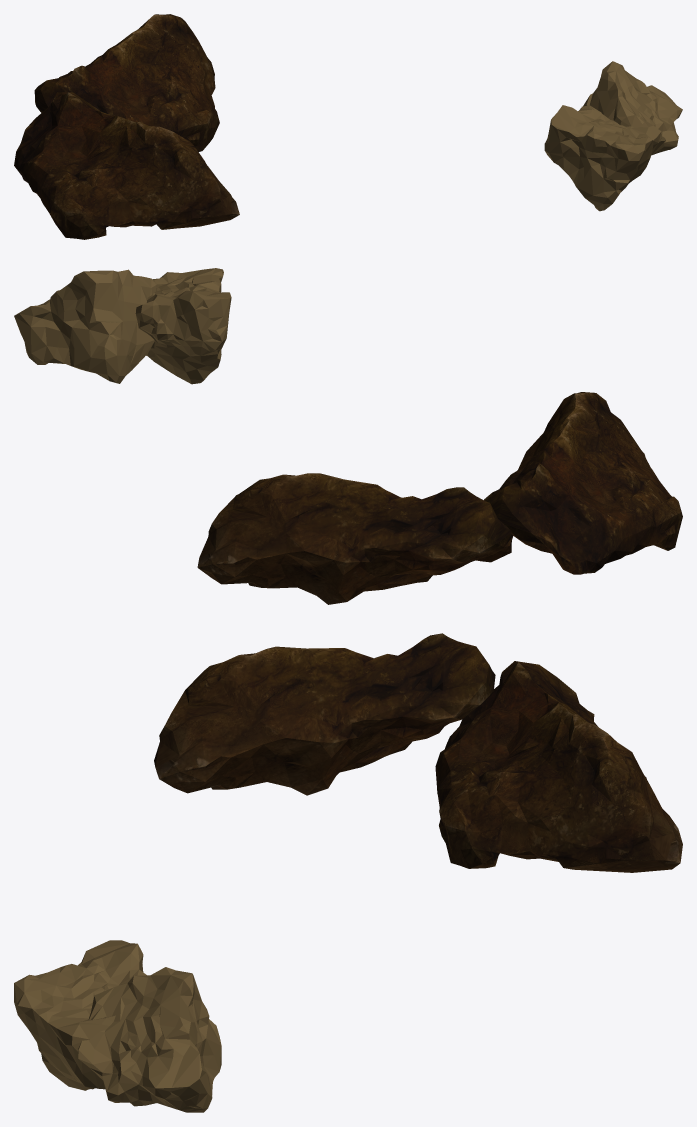
File: Rock.glb
3 views of the same model, one above another, from view 1: azimuth 30°, elevation 25°; view 2: azimuth 150°, elevation 25°; view 3: azimuth 270°, elevation 25° (orthographic). The views are drawn at different scales.
Parts seen in each view (by area): view 1: Rock_Sandstone-Photoscan_A_spring-summer-autumn; view 2: Rock_Sandstone-Photoscan_A_spring-summer-autumn; view 3: Rock_Sandstone-Photoscan_A_spring-summer-autumn.
Part boxes in pixels (x1,y1,x2,y2): Rock_Sandstone-Photoscan_A_spring-summer-autumn: [14, 14, 682, 239]; Rock_Sandstone-Photoscan_A_spring-summer-autumn: [14, 268, 682, 604]; Rock_Sandstone-Photoscan_A_spring-summer-autumn: [14, 633, 682, 1112].
Size of the model in its own units: 12.9 by 2.71 by 9.1.
Materials: 2 (2 with a texture image).
